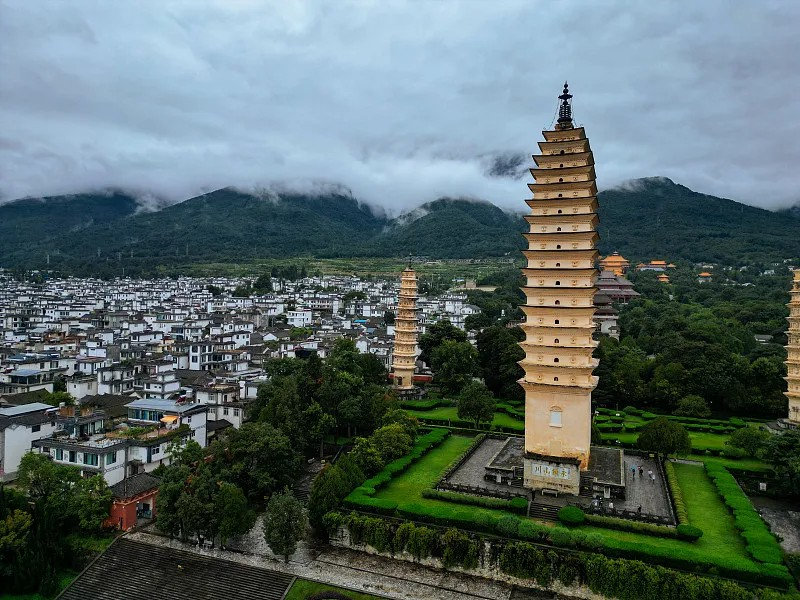ThreePagoda: (515, 82, 600, 467)
